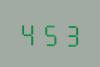five: (39, 19, 58, 47)
four: (18, 19, 37, 46)
three: (59, 20, 78, 47)
